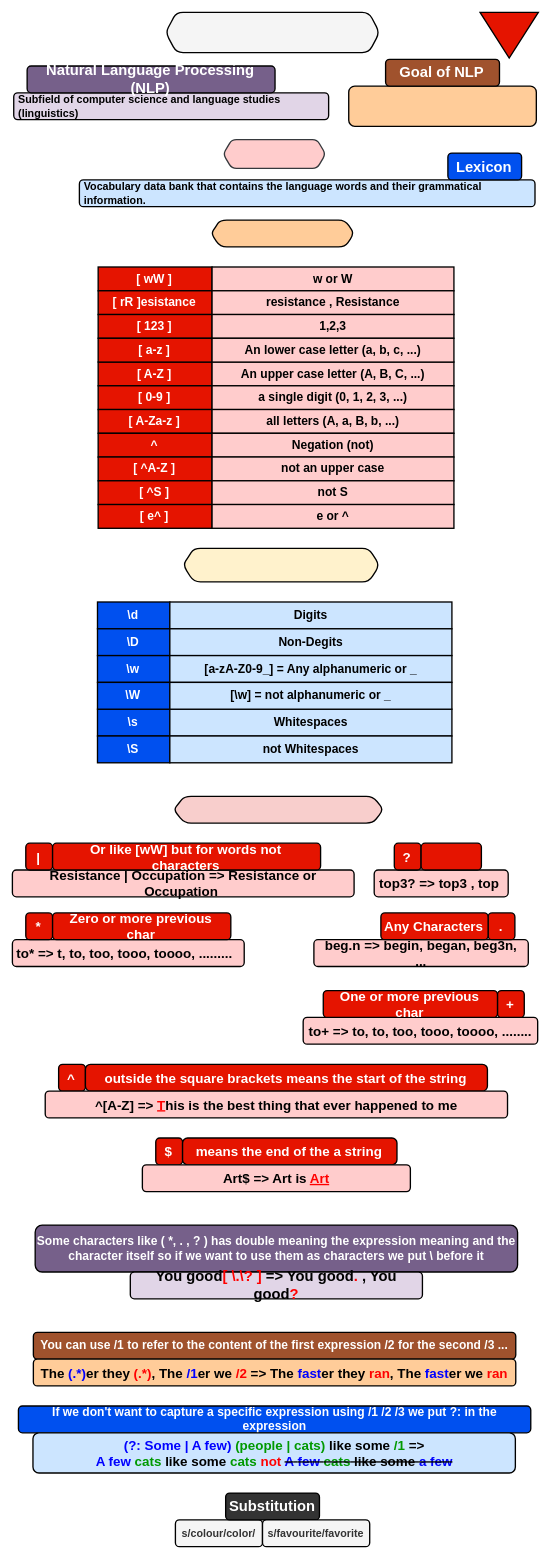
Some shapes in this 550 by 1558 pixel diagram are drawn without their labels. The shapes that lost their labels are listed below. From the top down, each one's box as (x1, y1, x2, y2) in pixels, then its label:
(165, 11, 380, 53): Natural Language Processing Midterm
(479, 11, 539, 58): ديما مغرب
(348, 85, 537, 127): To get computers to perform useful tasks involving human language
(222, 139, 326, 169): NLP Steps
(210, 219, 354, 247): Regular Expressions
(182, 547, 380, 582): Regular Expressions Pattern
(173, 795, 384, 823): Regular Expressions Symbols
(420, 842, 482, 870): Optional
